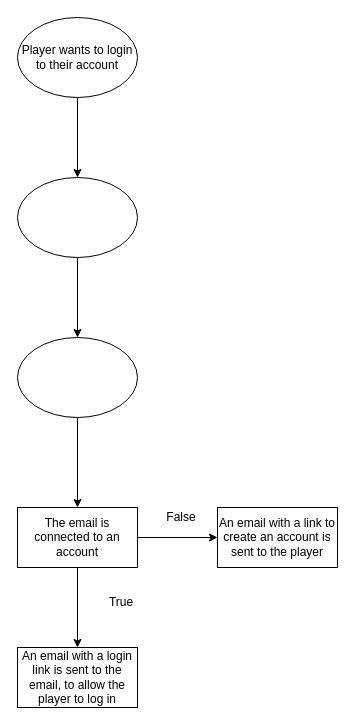
Image size: 355x725. Some labels were removed from this diagram. Here are the shapes that lost their labels. From the top down, the centre of each, then its label:
At (x=77, y=217): "Player goes to skovdevolley and clicks Login".
At (x=77, y=377): "Player inputs email, and clicks submit".
